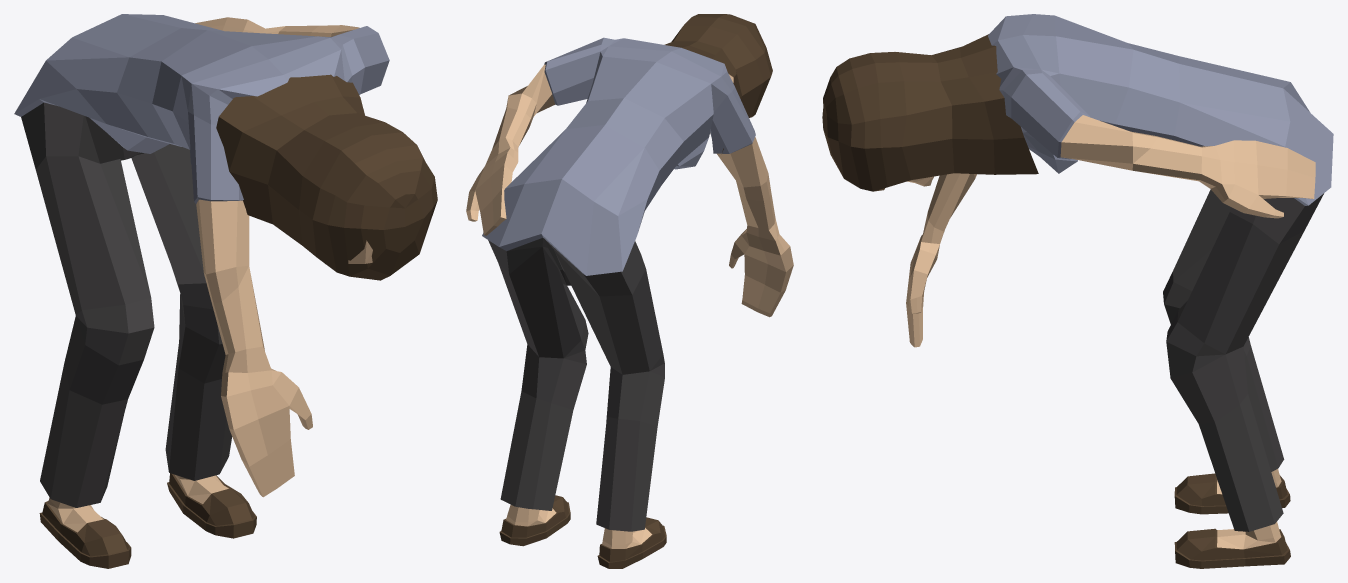
The model's file is Female_PickingUp.glb.
The picture shows the model from 3 angles, left to right: view 1: azimuth 30°, elevation 25°; view 2: azimuth 150°, elevation 25°; view 3: azimuth 270°, elevation 25°; orthographic projection. The views are drawn at different scales.
Parts seen in each view (by area): view 1: Female_PickingUp; view 2: Female_PickingUp; view 3: Female_PickingUp.
Part boxes in pixels (<box>): Female_PickingUp: <box>14,14,437,568</box>; Female_PickingUp: <box>466,14,793,568</box>; Female_PickingUp: <box>822,14,1333,568</box>.
Bounding box in the file's own units: 0.4838 × 1.01 × 0.9406.
